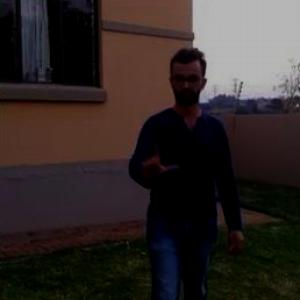land_hand: (132, 132, 183, 183)
